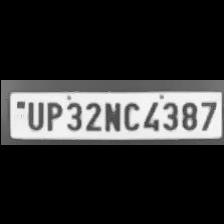2: (82, 98, 102, 132)
3: (62, 97, 82, 130), (160, 97, 178, 130)
4: (140, 98, 160, 130)
7: (198, 97, 218, 130)
8: (178, 98, 198, 130)
C: (120, 98, 140, 130)
N: (100, 98, 119, 132)
P: (42, 98, 62, 130)
U: (22, 98, 44, 130)
